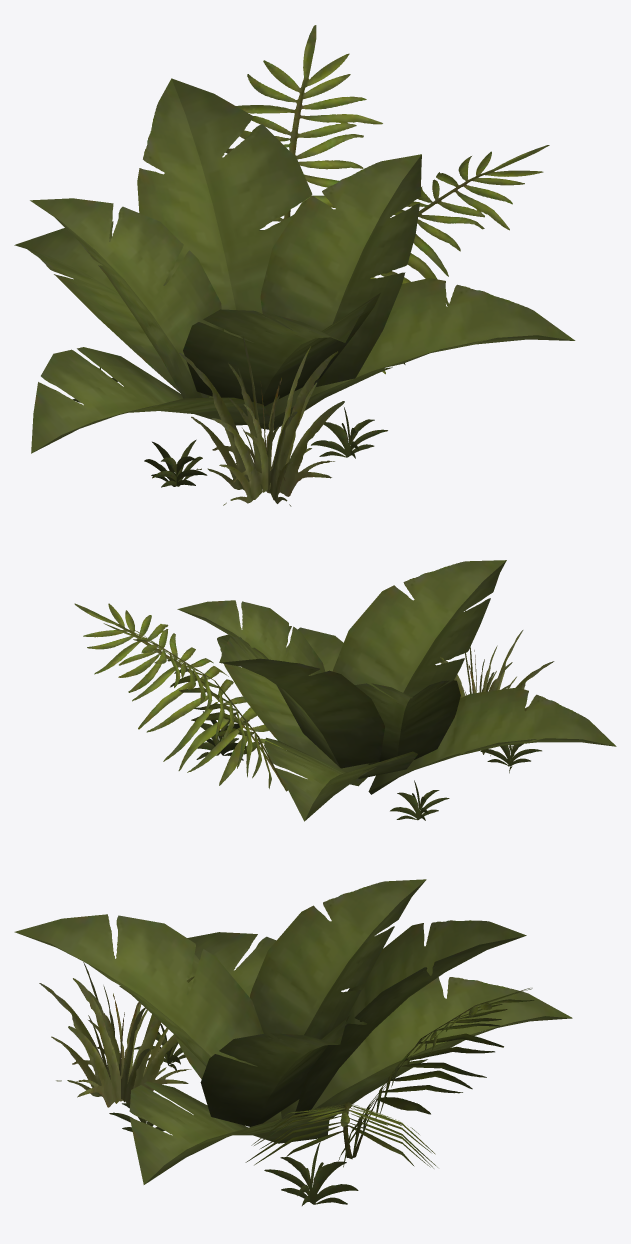
The picture shows the model from 3 angles, top to bottom: view 1: azimuth 30°, elevation 25°; view 2: azimuth 150°, elevation 25°; view 3: azimuth 270°, elevation 25°; orthographic projection. The views are drawn at different scales.
Parts seen in each view (by area): view 1: body0_model0_lod0_mesh0; view 2: body0_model0_lod0_mesh0; view 3: body0_model0_lod0_mesh0.
Part boxes in pixels (box(x1,y1,x2,y2)): body0_model0_lod0_mesh0: box(14, 25, 575, 506); body0_model0_lod0_mesh0: box(74, 560, 616, 821); body0_model0_lod0_mesh0: box(14, 879, 572, 1205).
Bounding box in the file's own units: 156 × 70.17 × 136.
Materials: 1 (1 with a texture image).
